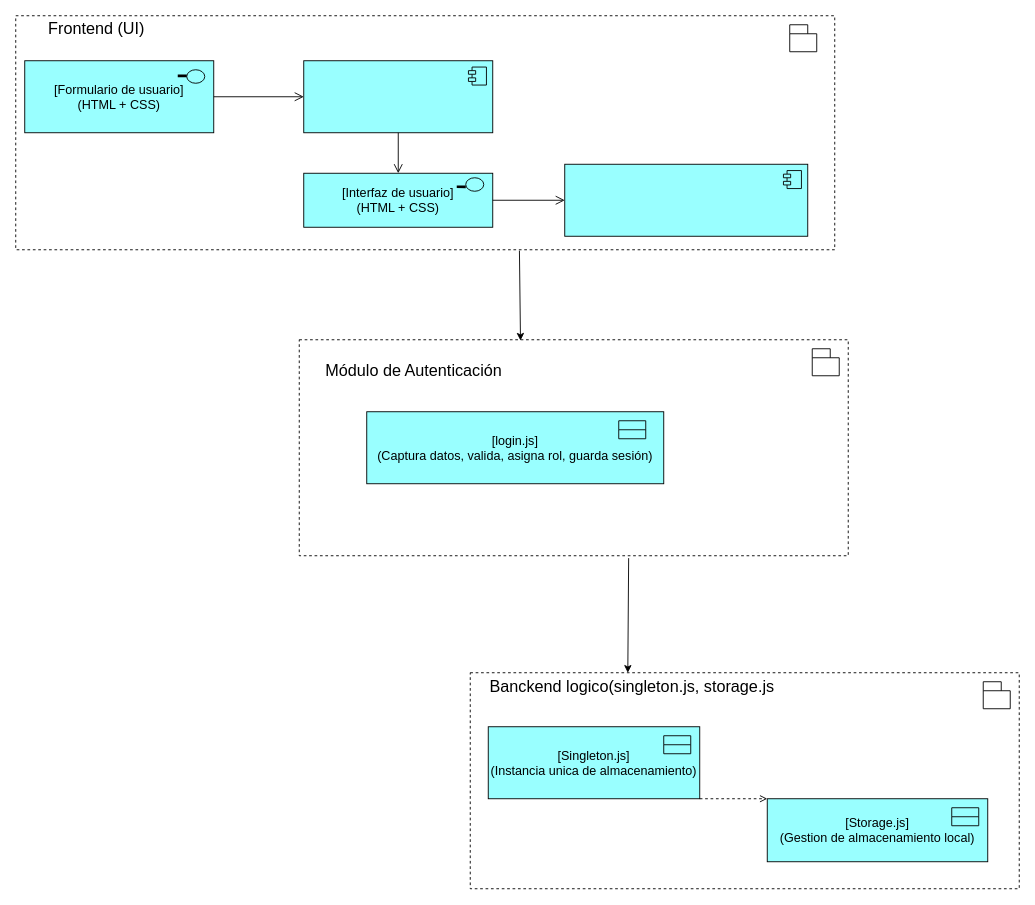
Some shapes in this 1035 by 905 pixel diagram are drawn without their labels. The centre of each missing label's shape, as x and y in pixels:
[App.js] (Punto de entrada del sistema y lógica principal CRUD): point 686,199
[Login.js] (Validación de login y rol ): point 398,96
